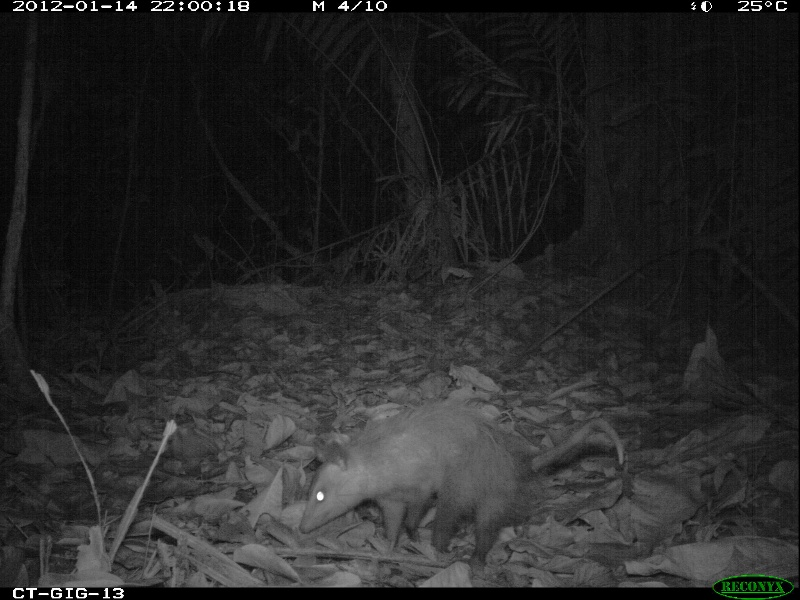opossum: (293, 405, 632, 568)
